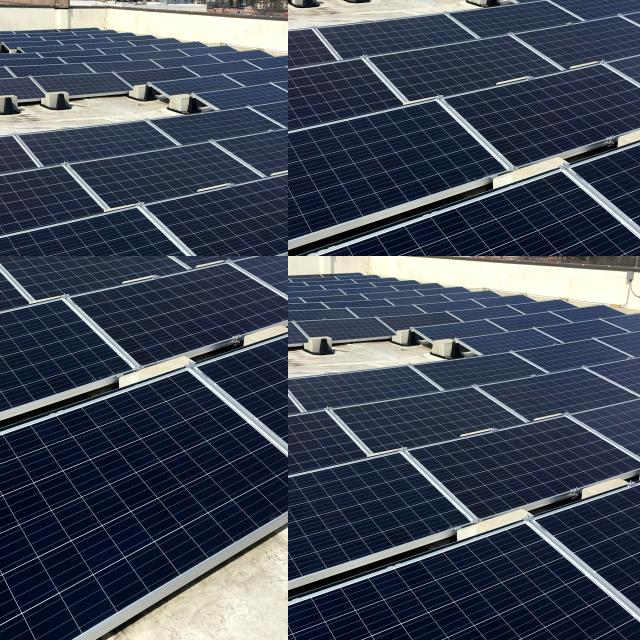bird: (0, 314, 12, 343), (0, 280, 10, 308), (0, 259, 9, 290), (0, 293, 11, 317), (0, 355, 10, 376), (0, 329, 13, 344), (0, 256, 10, 273), (0, 332, 9, 348), (0, 296, 7, 314), (0, 354, 4, 380), (0, 325, 4, 350), (0, 330, 4, 351), (0, 256, 6, 270), (0, 264, 5, 278), (0, 256, 5, 267)
crack: (288, 494, 640, 640), (288, 439, 523, 616), (397, 413, 640, 538), (546, 461, 640, 640), (466, 361, 640, 437), (338, 390, 518, 456), (288, 367, 441, 411), (288, 380, 399, 433), (592, 391, 640, 471)
dust: (0, 19, 14, 42), (0, 2, 19, 15), (0, 0, 10, 22), (0, 18, 10, 39), (0, 1, 15, 13), (0, 17, 8, 39), (0, 2, 10, 19), (0, 20, 8, 41), (0, 0, 15, 10), (0, 0, 16, 9), (0, 0, 15, 9), (0, 0, 16, 8), (0, 14, 7, 32), (0, 0, 12, 8), (0, 0, 3, 6)
